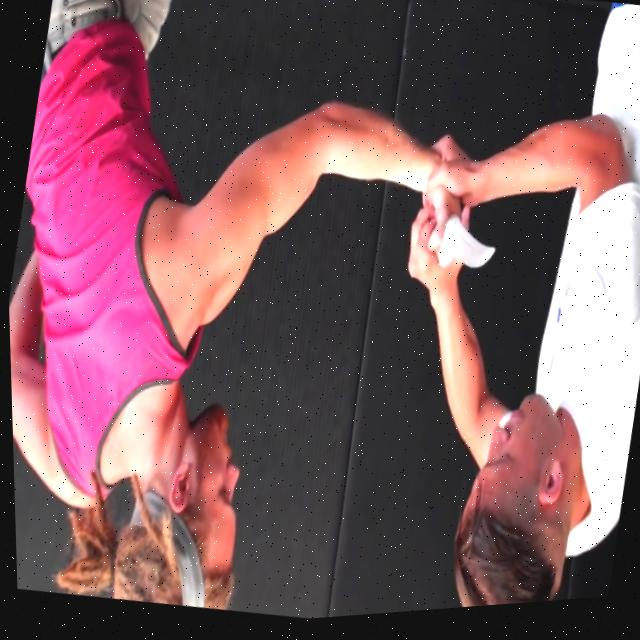knife: (431, 213, 501, 285)
